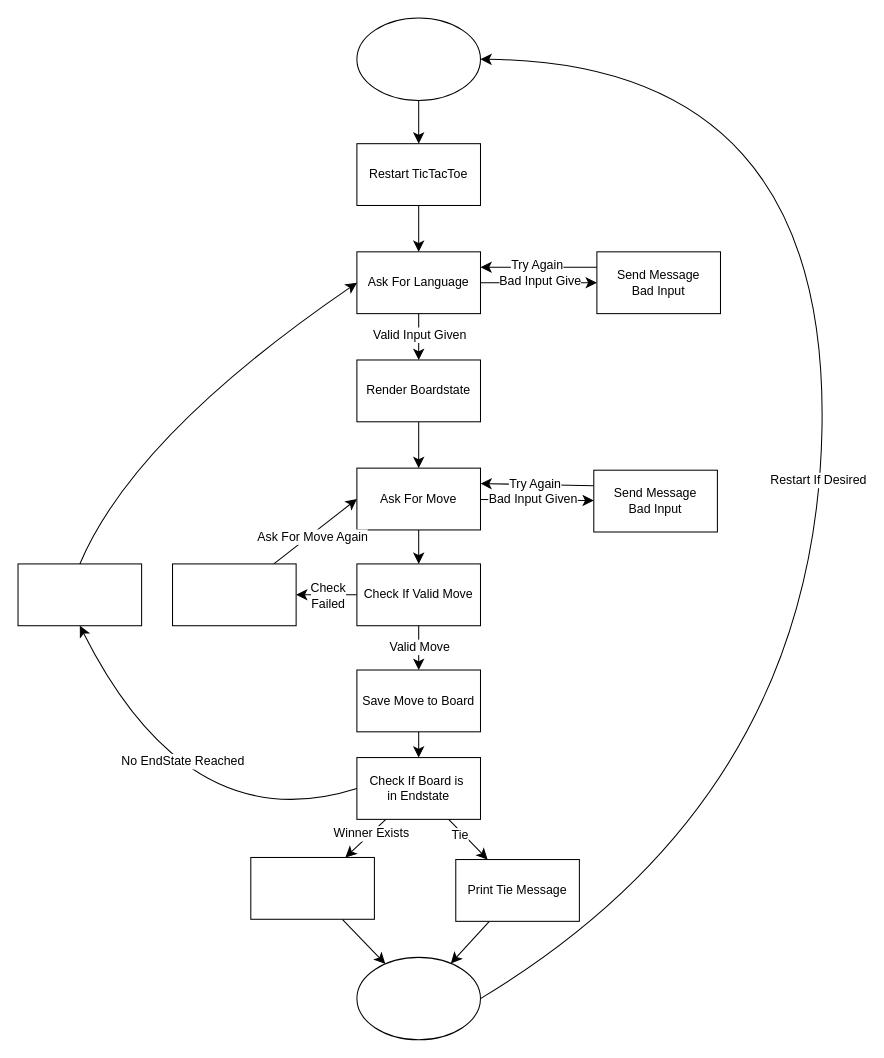
Some shapes in this 884 by 1058 pixel diagram are drawn without their labels. The shapes that lost their labels are listed below. From the top down, each one's centre as x and y in pixels, then its label:
(x=418, y=58): Start
(x=79, y=594): Change Current Player Turn
(x=233, y=594): "This Move can't be Taken"
(x=312, y=887): Print Winner Message
(x=418, y=998): End
